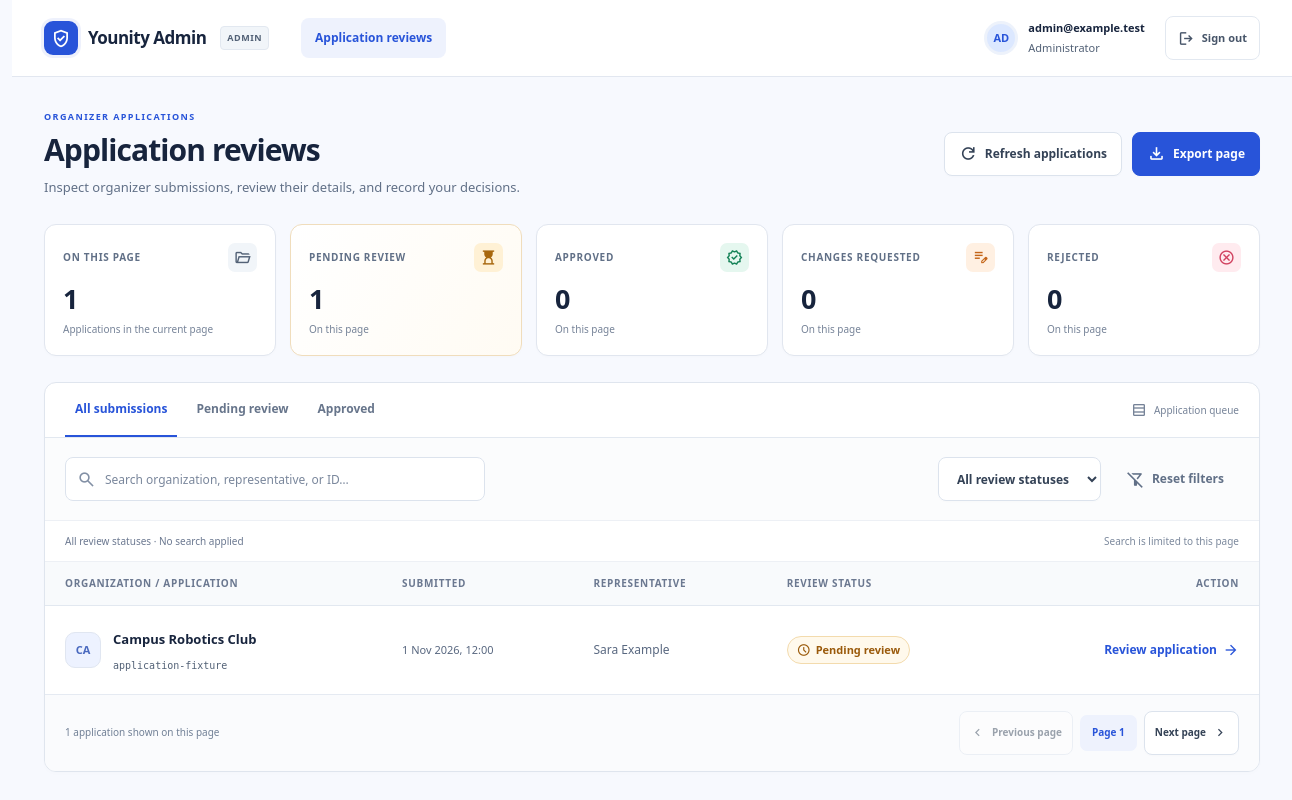
Test: application list › uses only adapter filters and resets pagination when a filter changes
Select "Approved" in the dropdown named "Review status": (1019, 480) [938, 458, 1101, 502]
(page scrolled)
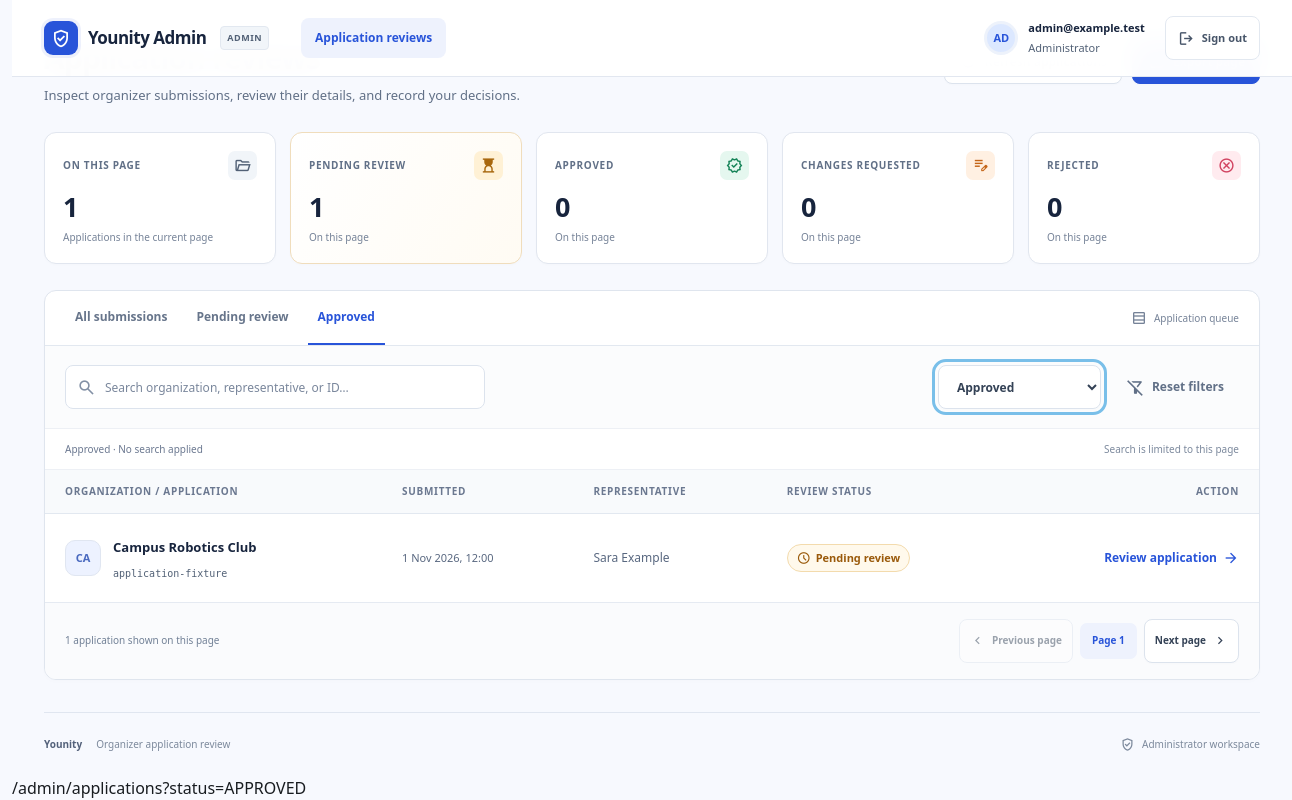
Expected: the text named "Current route" reads "/admin/applications?status=APPROVED", [12, 777, 306, 799]
